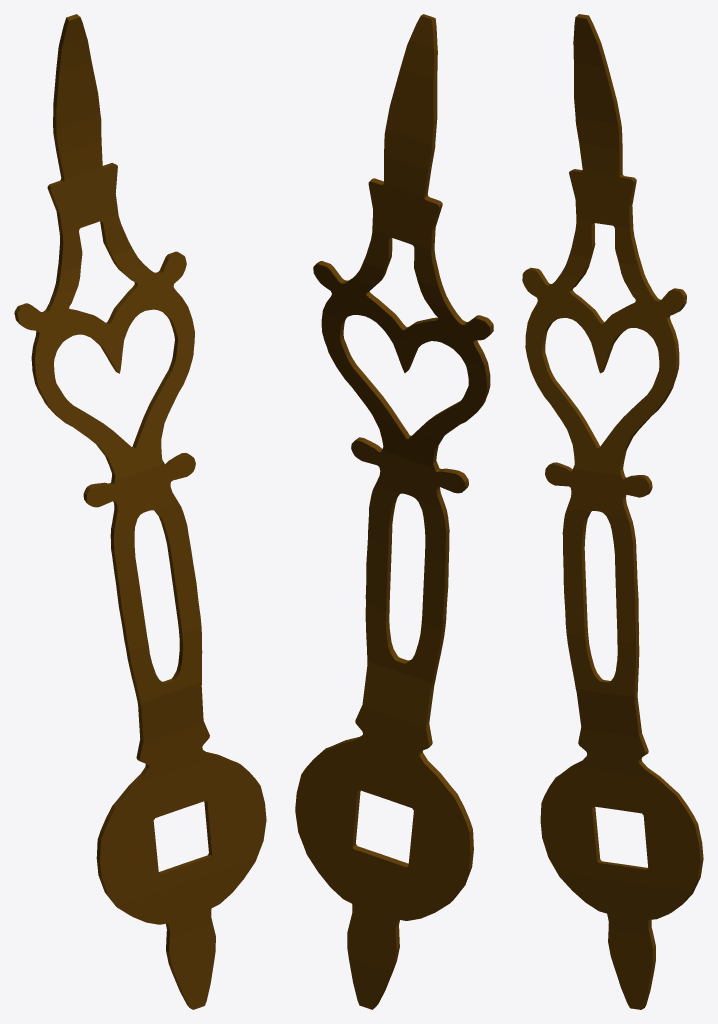
The model's file is Copie de Aiguile des heures^Horloge Comtoise Verge - Sonnerie.obj.
3 views of the same model, side by side, from view 1: azimuth 30°, elevation 25°; view 2: azimuth 150°, elevation 25°; view 3: azimuth 330°, elevation 25° (orthographic). The views are drawn at different scales.
Parts seen in each view (by area): view 1: Face_1, Face_484, Face_52, Face_265, Face_724, Face_55, Face_131, Face_105, Face_761, Face_377, Face_374, Face_335 (+11 smaller); view 2: Face_54, Face_102, Face_628, Face_747, Face_330, Face_129, Face_103, Face_191, Face_762, Face_482, Face_481, Face_128 (+12 smaller); view 3: Face_1, Face_484, Face_52, Face_265, Face_724, Face_55, Face_131, Face_105, Face_761, Face_374, Face_377, Face_335 (+13 smaller).
Part boxes in pixels (x1=…): Face_1: x1=100, y1=756, x2=266, y2=905; Face_484: x1=17, y1=254, x2=188, y2=361; Face_52: x1=117, y1=858, x2=256, y2=937; Face_265: x1=87, y1=455, x2=195, y2=522; Face_724: x1=50, y1=164, x2=118, y2=232; Face_55: x1=134, y1=723, x2=219, y2=785; Face_131: x1=129, y1=626, x2=202, y2=702; Face_105: x1=141, y1=683, x2=203, y2=742; Face_761: x1=56, y1=61, x2=100, y2=128; Face_377: x1=141, y1=310, x2=194, y2=433; Face_374: x1=35, y1=355, x2=123, y2=447; Face_335: x1=101, y1=426, x2=164, y2=479; Face_54: x1=295, y1=743, x2=470, y2=899; Face_102: x1=305, y1=849, x2=452, y2=934; Face_628: x1=313, y1=265, x2=490, y2=368; Face_747: x1=368, y1=181, x2=438, y2=249; Face_330: x1=351, y1=441, x2=465, y2=507; Face_129: x1=362, y1=662, x2=431, y2=727; Face_103: x1=345, y1=706, x2=433, y2=772; Face_191: x1=365, y1=605, x2=441, y2=682; Face_762: x1=385, y1=68, x2=433, y2=143; Face_482: x1=321, y1=313, x2=397, y2=425; Face_481: x1=416, y1=361, x2=486, y2=440; Face_128: x1=347, y1=920, x2=396, y2=972; Face_1: x1=540, y1=765, x2=700, y2=892; Face_484: x1=522, y1=270, x2=683, y2=346; Face_52: x1=557, y1=872, x2=690, y2=934; Face_265: x1=545, y1=465, x2=649, y2=516; Face_724: x1=569, y1=169, x2=633, y2=226; Face_55: x1=573, y1=729, x2=655, y2=777; Face_131: x1=566, y1=633, x2=635, y2=696; Face_105: x1=576, y1=689, x2=639, y2=737; Face_761: x1=574, y1=63, x2=617, y2=123; Face_374: x1=525, y1=325, x2=589, y2=434; Face_377: x1=607, y1=344, x2=676, y2=440; Face_335: x1=568, y1=432, x2=628, y2=474.
Size of what is drawn, in the model's own units: 0.0228 by 0.0993 by 0.00831.
